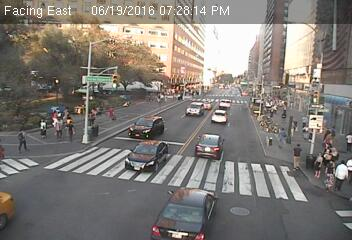neg: (23, 38, 46, 69), (66, 183, 89, 212), (308, 51, 330, 80), (156, 104, 177, 132), (14, 188, 34, 215), (137, 151, 157, 177), (179, 194, 199, 220), (152, 36, 171, 61), (224, 192, 242, 217), (92, 32, 110, 55), (254, 151, 271, 174), (203, 56, 220, 79), (260, 31, 277, 54), (173, 74, 189, 95), (90, 70, 105, 89), (198, 129, 212, 147), (267, 88, 280, 105), (209, 96, 219, 110)
pos: (12, 126, 33, 154), (289, 143, 310, 171), (320, 160, 341, 188), (331, 157, 351, 184), (310, 151, 329, 176), (29, 115, 47, 139), (62, 115, 80, 139), (54, 118, 67, 137), (107, 105, 117, 118)
